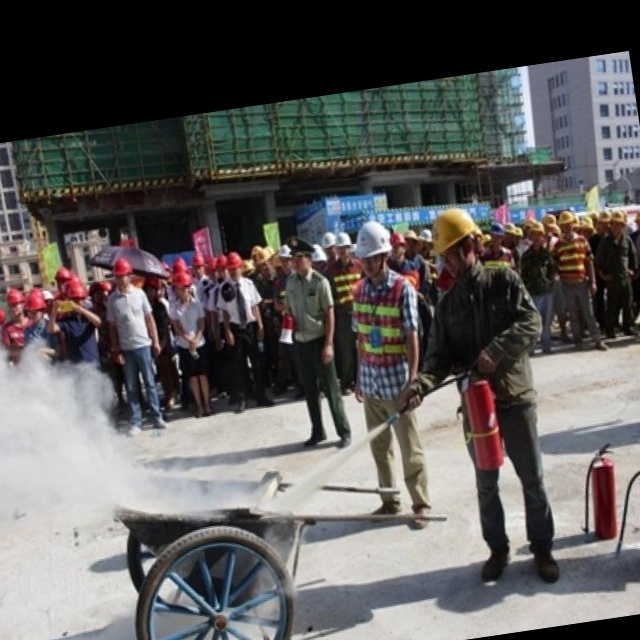Con_Casco: (426, 202, 489, 278), (351, 218, 398, 281)
Con_Chaleco: (348, 271, 423, 366)
Sin_Chaleco: (438, 267, 531, 378)
